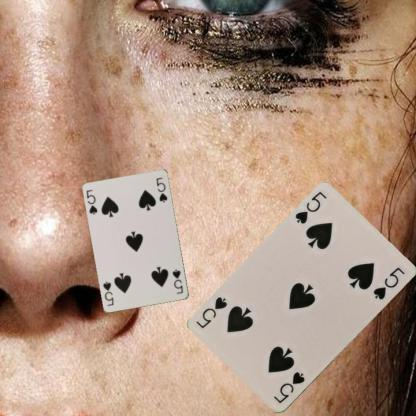5s: (292, 189, 328, 226), (271, 369, 306, 405), (84, 187, 99, 216), (170, 266, 184, 296)
